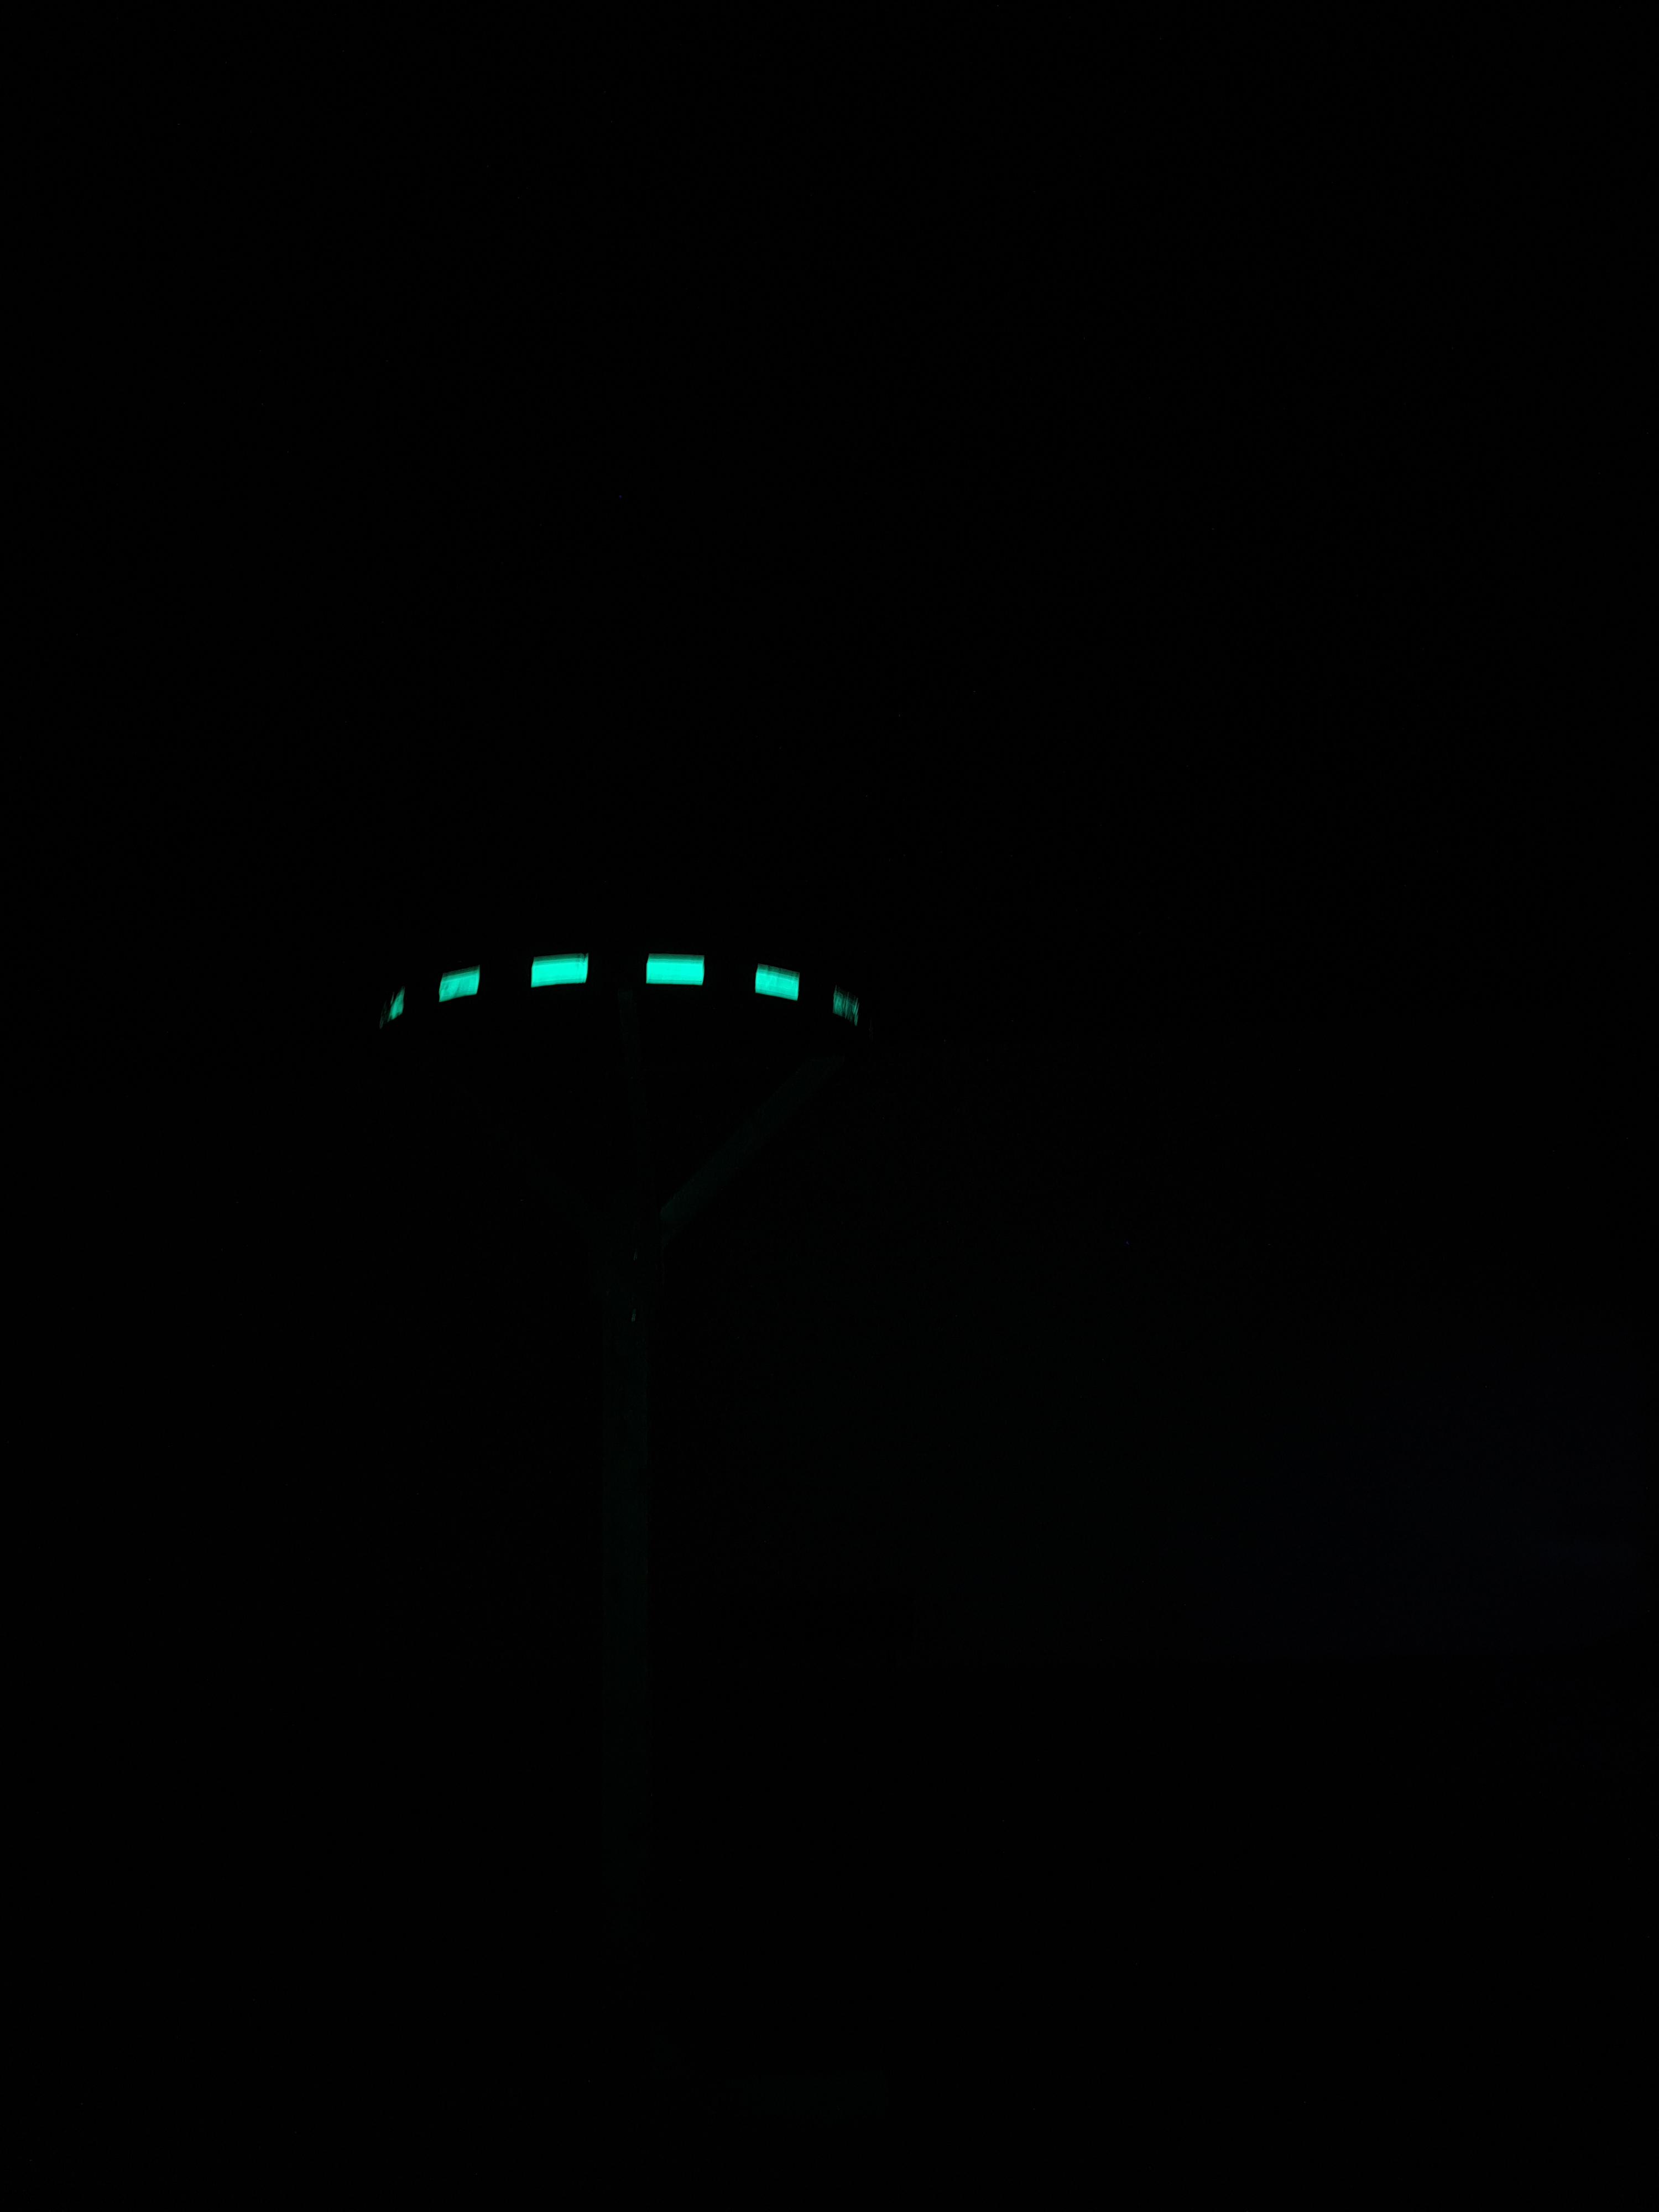hoop: (362, 941, 864, 1047)
